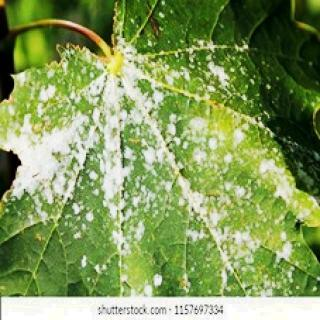grey mildew: (7, 30, 320, 290)
